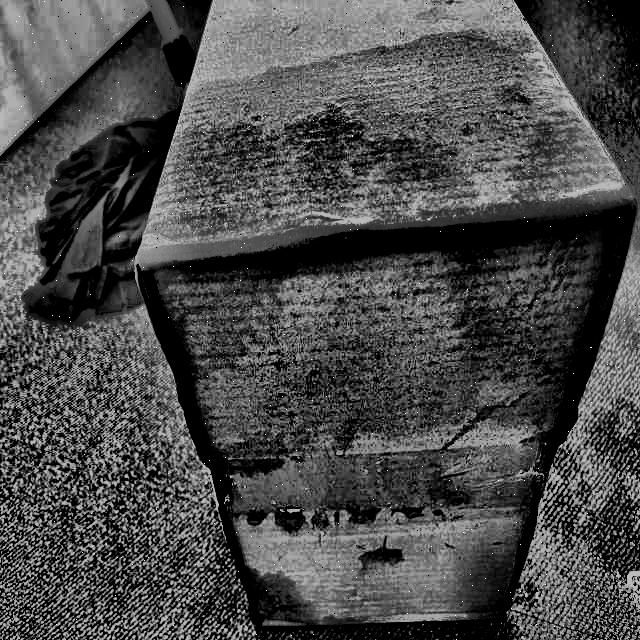box: (141, 0, 640, 640)
wet: (156, 28, 600, 452)
